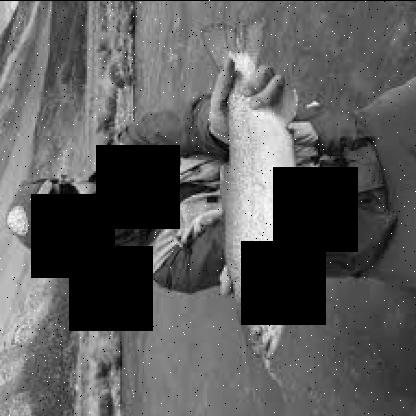fish: (200, 17, 312, 358)
